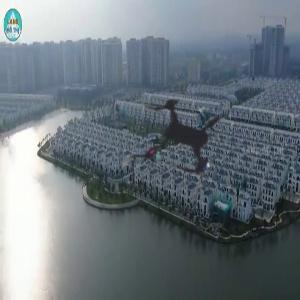drone: (88, 38, 279, 229)
